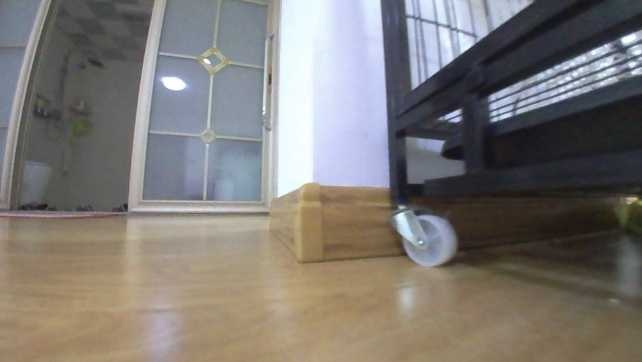blanket: (1, 209, 124, 218)
toilet: (17, 158, 51, 207)
